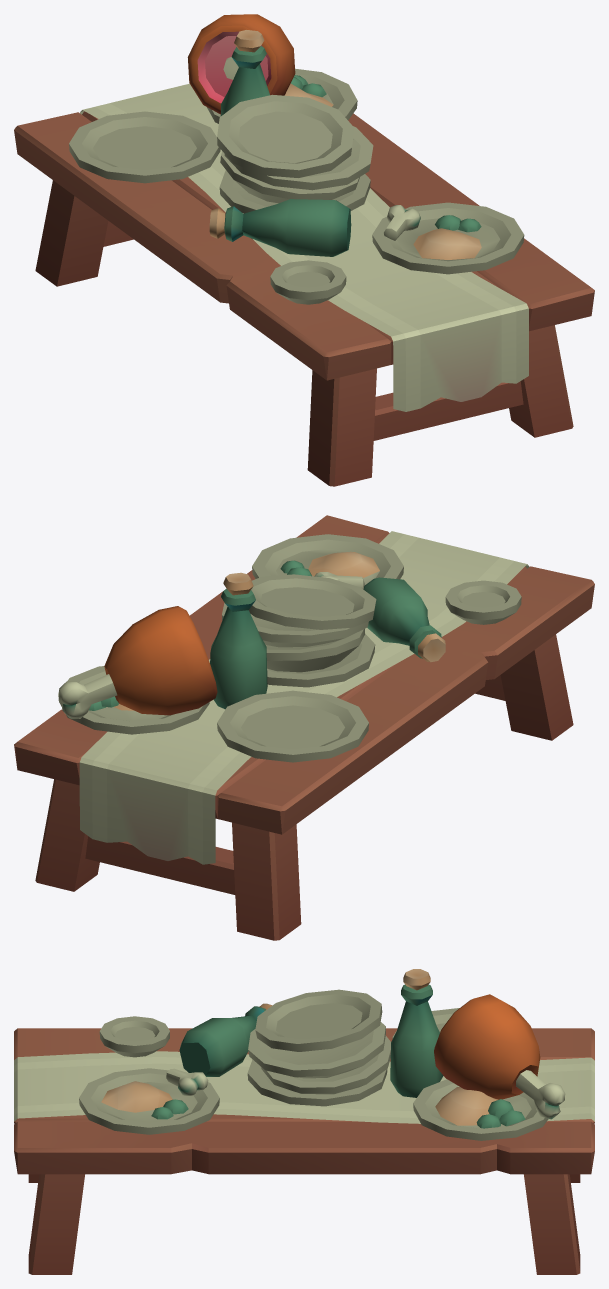
File: banquet-elf.glb
The picture shows the model from 3 angles, top to bottom: view 1: azimuth 30°, elevation 25°; view 2: azimuth 150°, elevation 25°; view 3: azimuth 270°, elevation 25°; orthographic projection. The views are drawn at different scales.
Parts seen in each view (by area): view 1: banquet-elf; view 2: banquet-elf; view 3: banquet-elf.
Boxes of the visible parts, box(x1,y1,x2,y2) form: banquet-elf: box(14, 14, 594, 486); banquet-elf: box(14, 515, 594, 940); banquet-elf: box(14, 969, 594, 1274).
Bounding box in the file's own units: 2.06 × 1.89 × 4.
